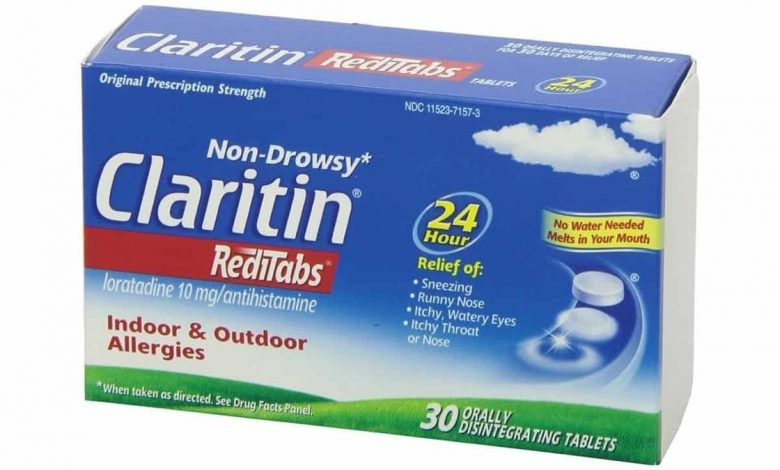Medicine: (75, 1, 709, 470)
